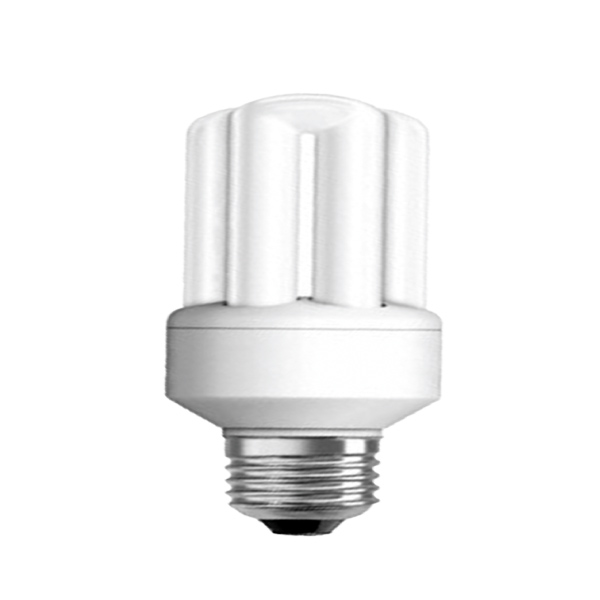Light_bulb: (152, 85, 454, 560)
